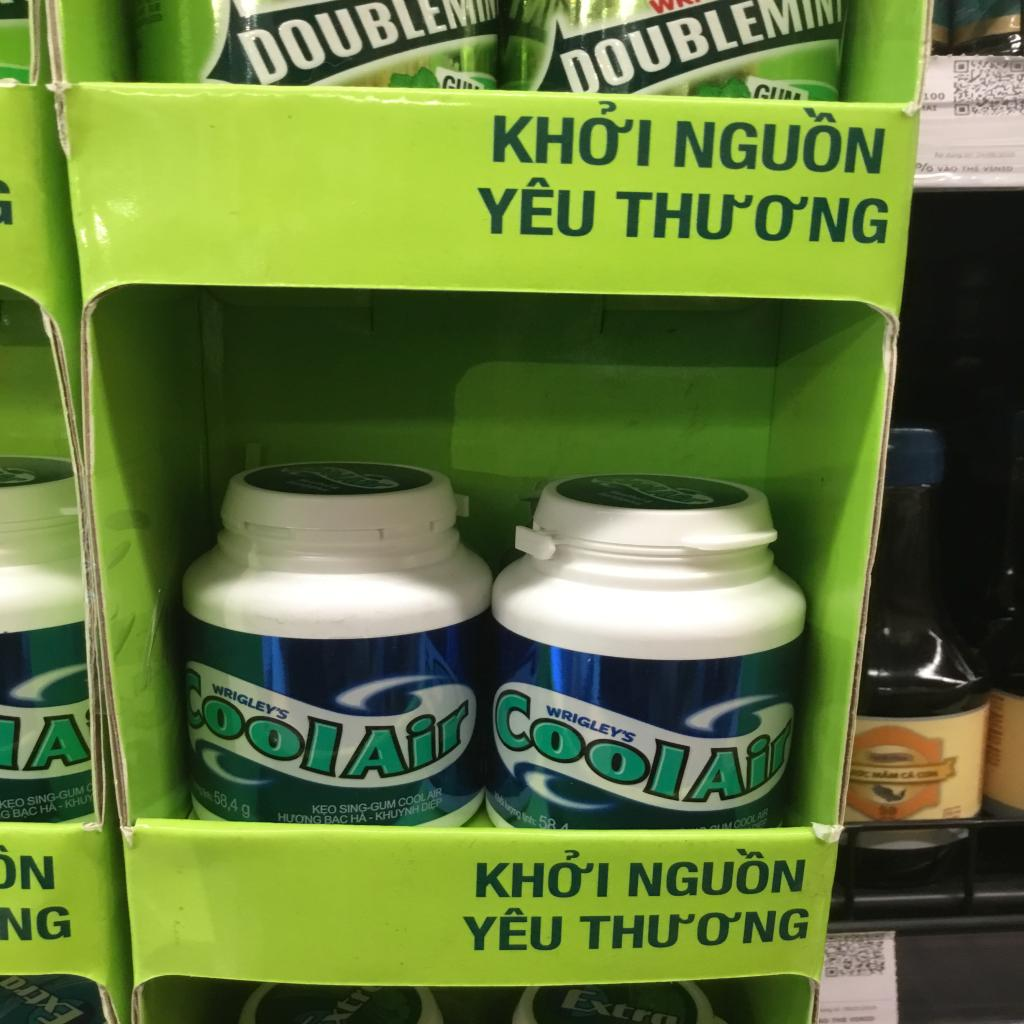text: (494, 690, 798, 814), (201, 694, 473, 780), (556, 0, 768, 104), (229, 0, 432, 89), (670, 100, 897, 178), (612, 189, 893, 247), (488, 98, 659, 172), (626, 845, 810, 897), (474, 172, 599, 239), (475, 848, 613, 899), (458, 906, 566, 952), (22, 711, 98, 774), (544, 701, 640, 746), (208, 678, 294, 723), (560, 986, 656, 1022), (0, 904, 76, 944), (313, 987, 378, 1024), (10, 980, 72, 1016), (18, 854, 58, 892), (27, 784, 87, 808), (340, 797, 398, 815), (397, 786, 443, 808), (732, 807, 770, 832), (374, 804, 421, 822), (211, 788, 240, 816), (278, 811, 322, 824), (63, 792, 95, 809), (11, 805, 41, 821), (0, 795, 28, 811), (502, 800, 522, 822), (421, 796, 444, 814), (536, 814, 558, 832), (870, 769, 900, 780), (311, 804, 338, 816), (39, 800, 59, 816), (922, 90, 948, 102), (982, 165, 1016, 174), (520, 812, 538, 828), (323, 814, 349, 825), (916, 161, 935, 175), (936, 164, 960, 175), (492, 789, 506, 807), (239, 803, 253, 820), (350, 811, 368, 824), (960, 164, 982, 174), (0, 808, 13, 822), (922, 103, 939, 113), (899, 770, 915, 779), (758, 816, 769, 829)
